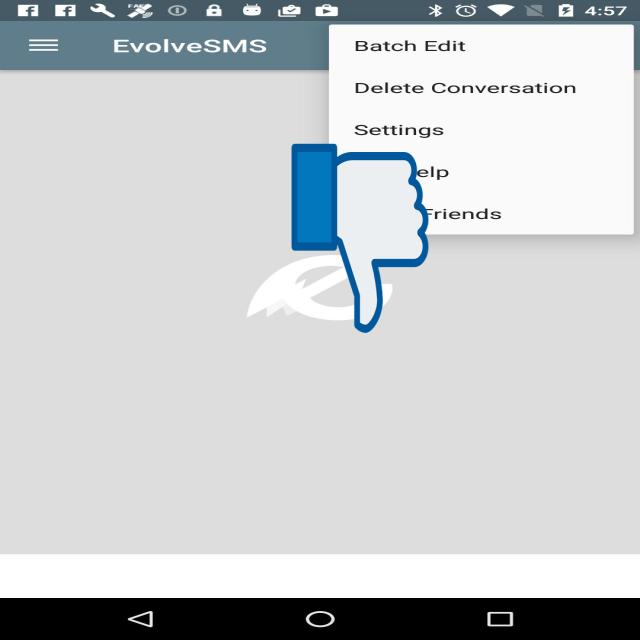obstruction: (292, 140, 428, 337)
